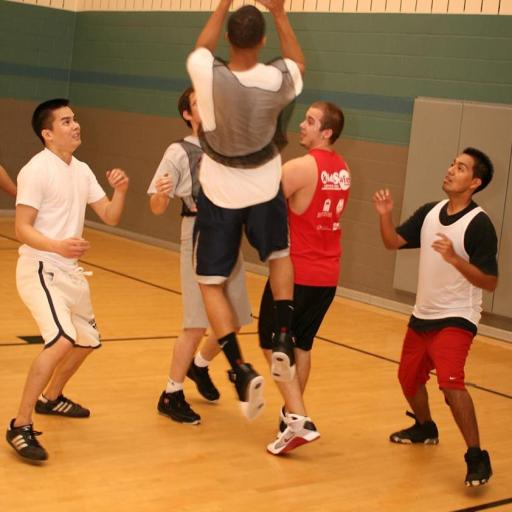person: (187, 0, 305, 418), (7, 99, 128, 460), (374, 148, 497, 485), (267, 102, 350, 454), (148, 88, 220, 424), (0, 165, 17, 197)
